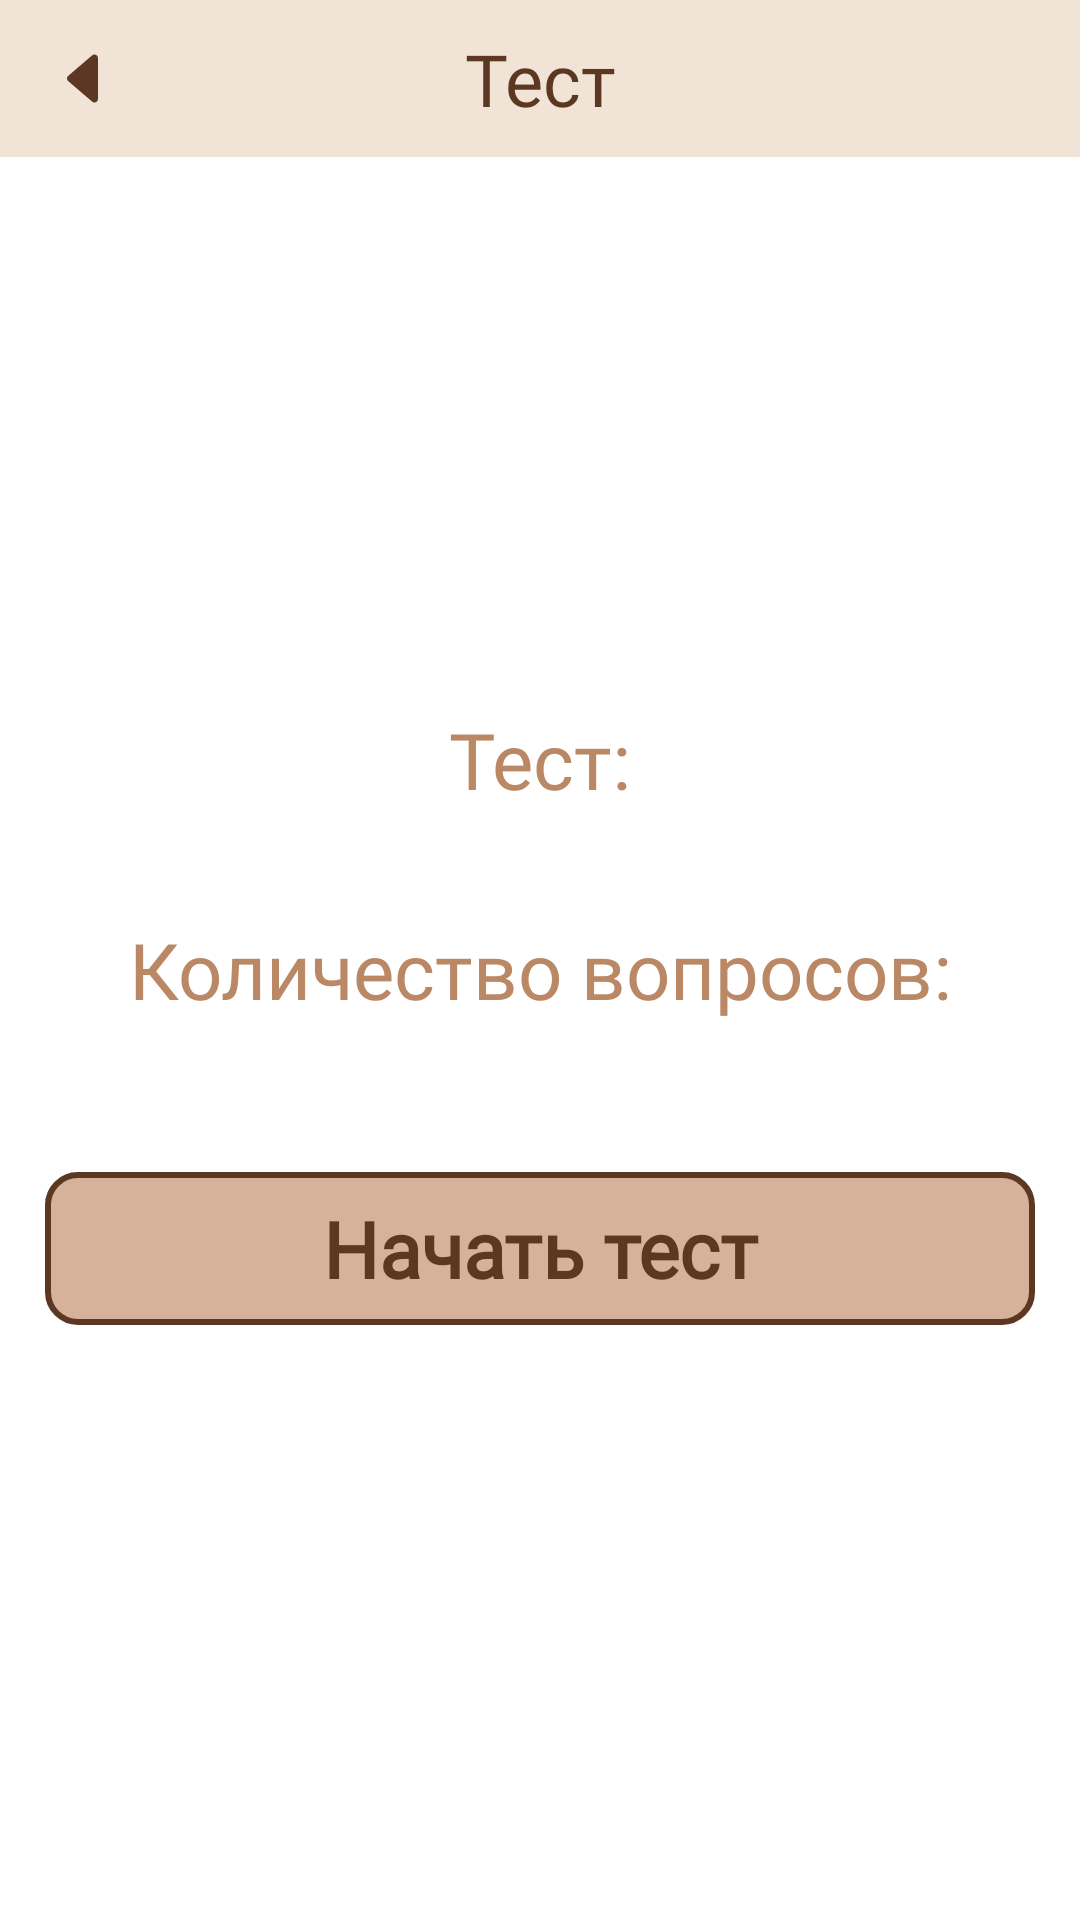

Screen size 1080 x 1920. Icon name, then its box in pixels as (x1, y1, x2, y2):
back: (67, 54, 98, 103)
